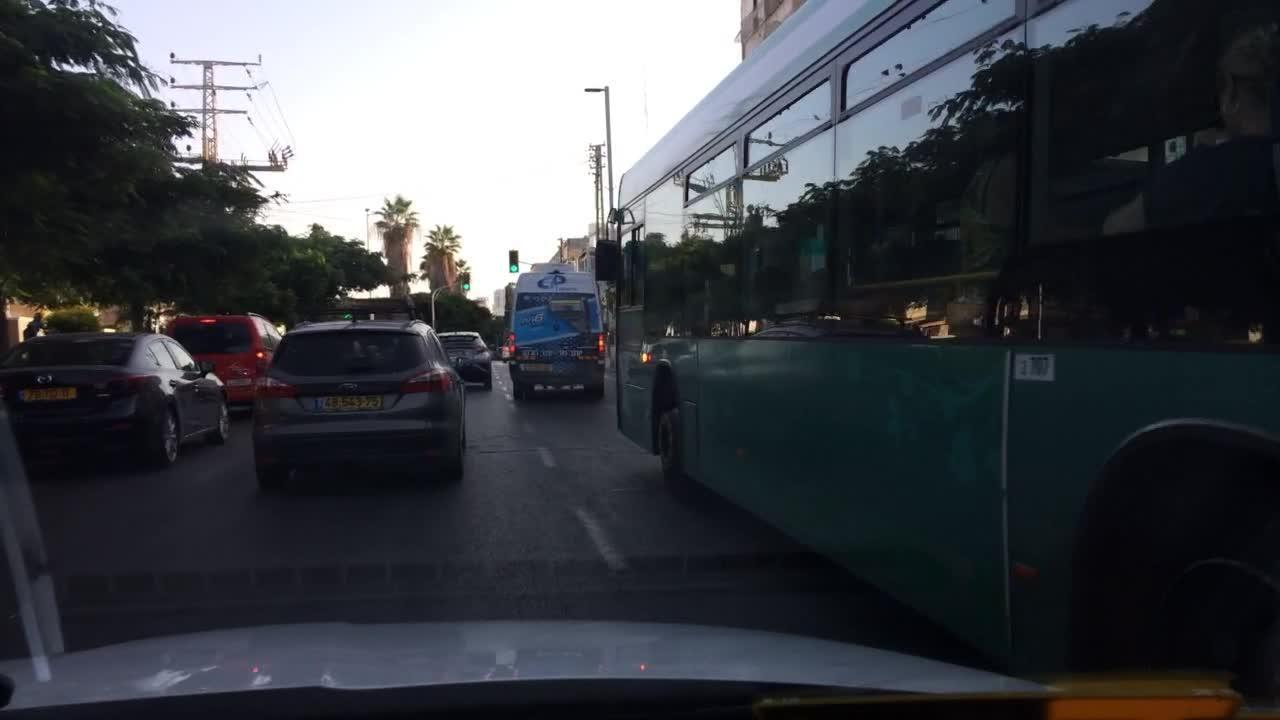Mazda: (30, 371, 62, 387)
